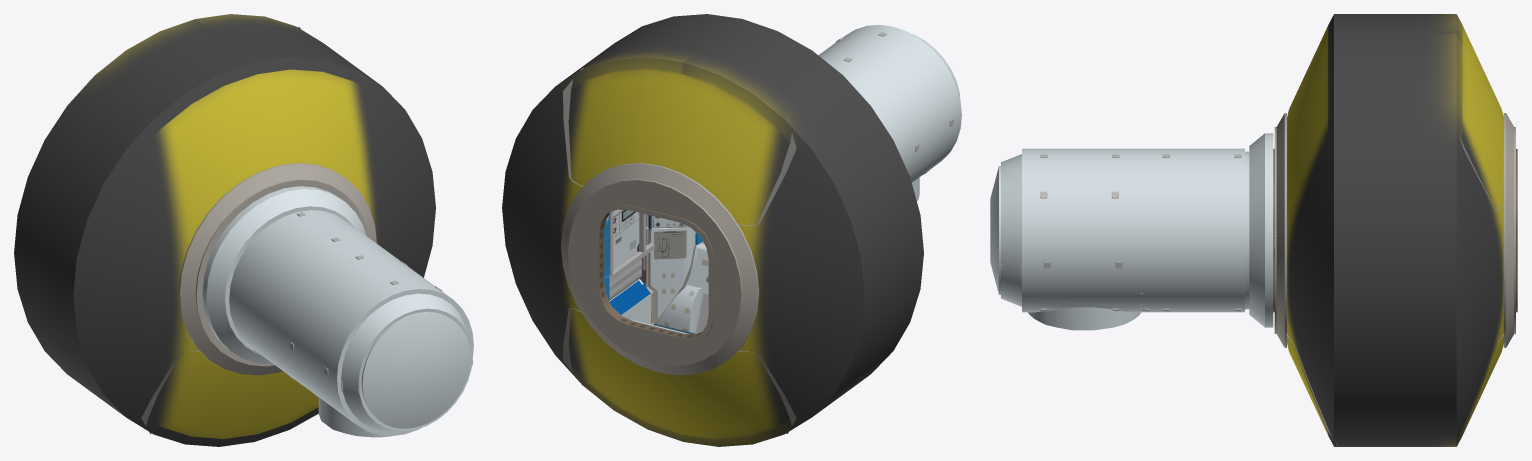
The model's file is Airlock_Int_Sys.fbx.
The picture shows the model from 3 angles, left to right: view 1: azimuth 30°, elevation 25°; view 2: azimuth 150°, elevation 25°; view 3: azimuth 270°, elevation 25°; orthographic projection. The views are drawn at different scales.
Parts seen in each view (by area): view 1: Airlock_Int_Enclosure; view 2: Airlock_Int_Enclosure, Airlock_Int_Wall_Starboard, Airlock_Int_se_191_stowage_rack; view 3: Airlock_Int_Enclosure, Airlock_Int_Handles_Metallics.
Boxes of the visible parts, x1=… form: Airlock_Int_Enclosure: x1=14, y1=14, x2=473, y2=446; Airlock_Int_Enclosure: x1=502, y1=14, x2=961, y2=446; Airlock_Int_Wall_Starboard: x1=604, y1=214, x2=708, y2=333; Airlock_Int_se_191_stowage_rack: x1=609, y1=209, x2=654, y2=324; Airlock_Int_Enclosure: x1=990, y1=14, x2=1517, y2=446; Airlock_Int_Handles_Metallics: x1=1001, y1=154, x2=1241, y2=311.
Size of the model in its own units: 4204 by 4204 by 5117.
